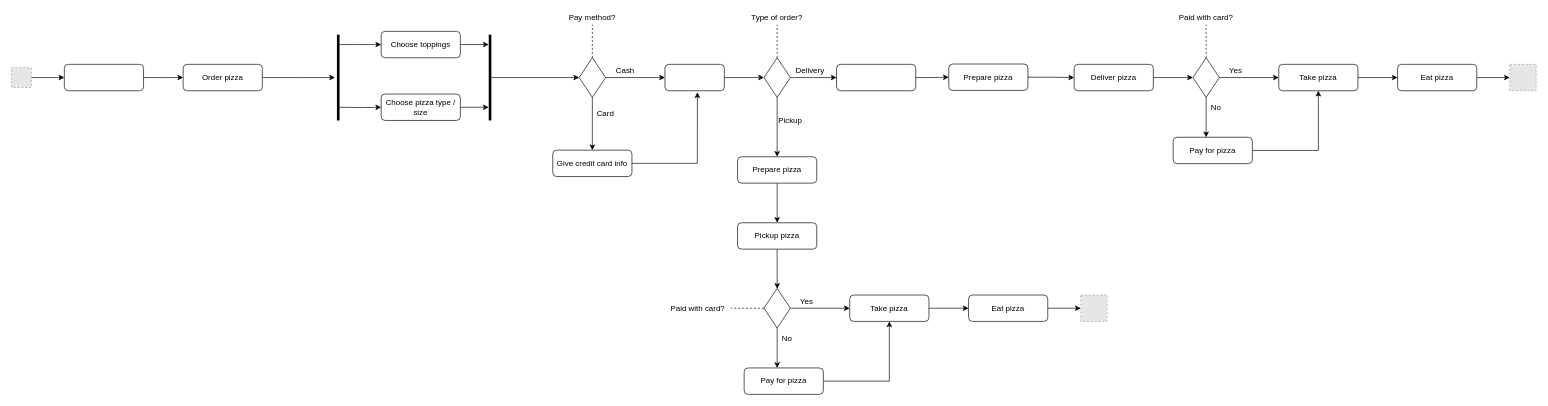
This 1548x406 diagram has some shape labels left out. Grey dashed boxes stand in for pictures. Here are the shapes that lost their labels. From the top down, the centre of each, then its label:
At (104,77): "Call the pizzeria".
At (694,77): "Await next step".
At (876,77): "Give delivery address".
